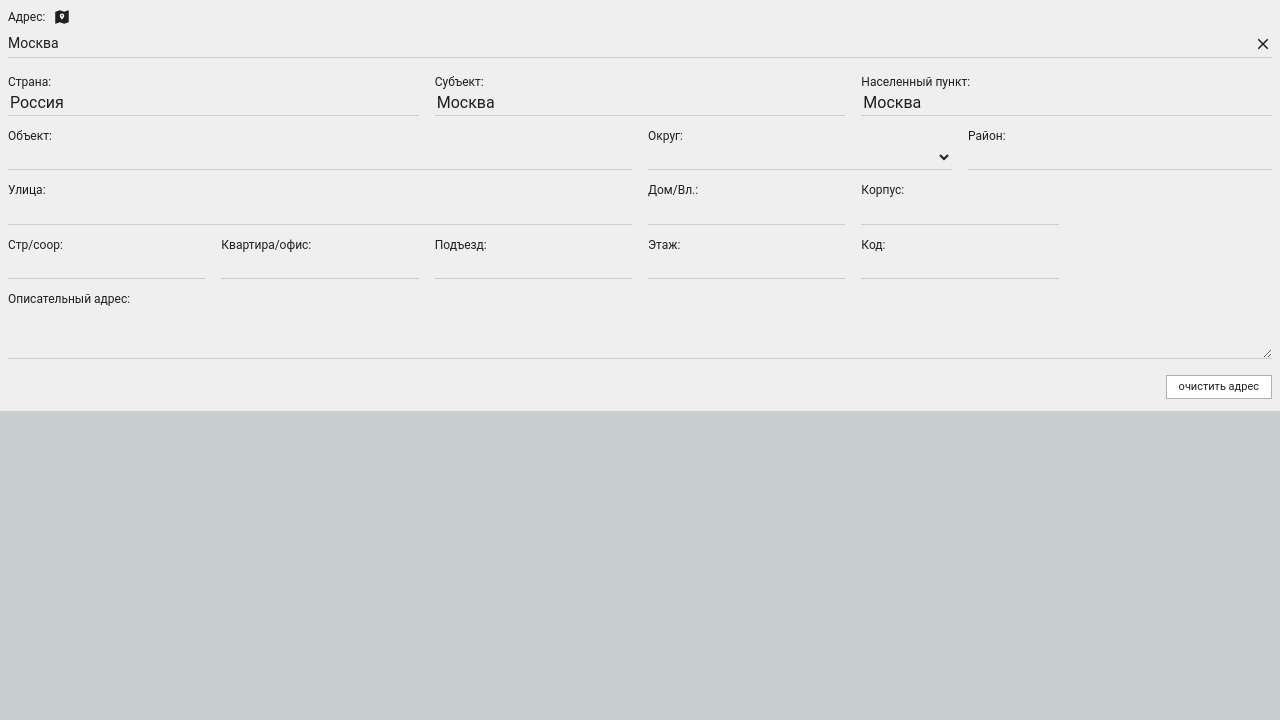
Scenario: Operator112AddressField › кнопка карты открывает окно «С112 — карта»; выбор точки пишет lat/lon в адрес
Click the button named "Указать на карте" at (62, 17), box x1=53 y1=8 x2=71 y2=26
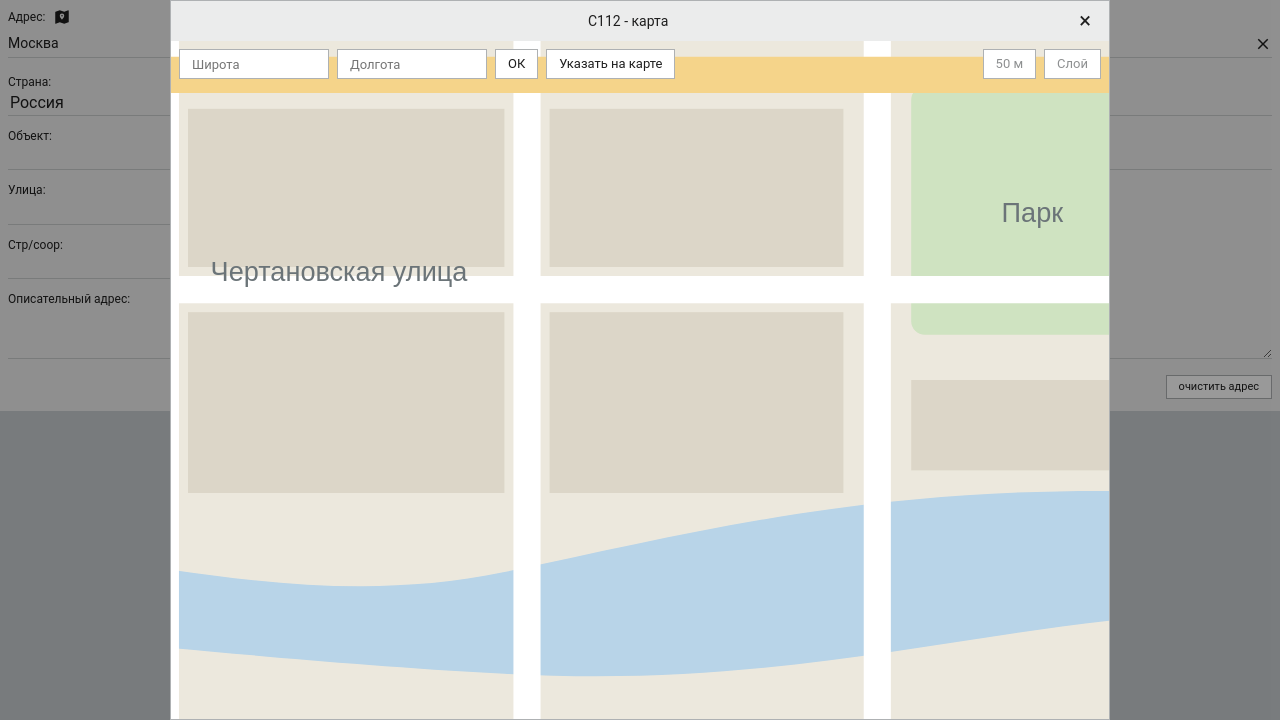
Click the button "Указать на карте" at (611, 64), box x1=546 y1=49 x2=675 y2=79
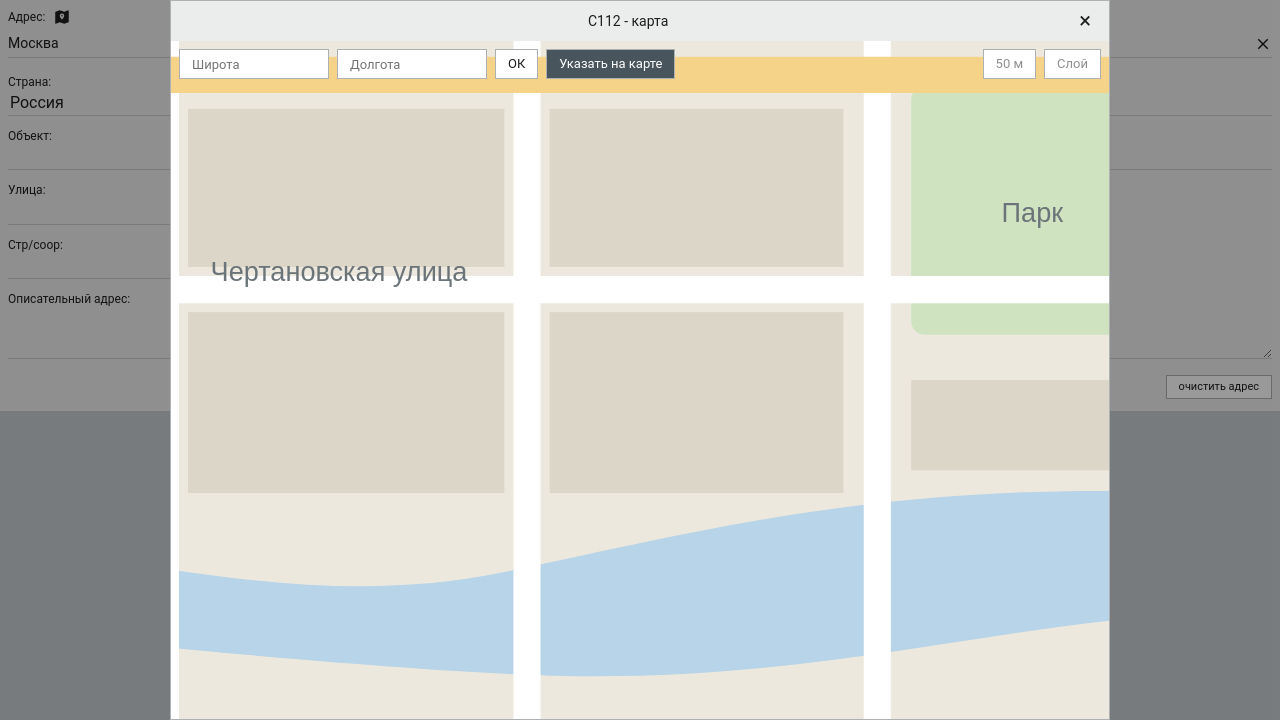
Click the element with test id "map-surface" at (640, 380), box x1=171 y1=41 x2=1109 y2=719
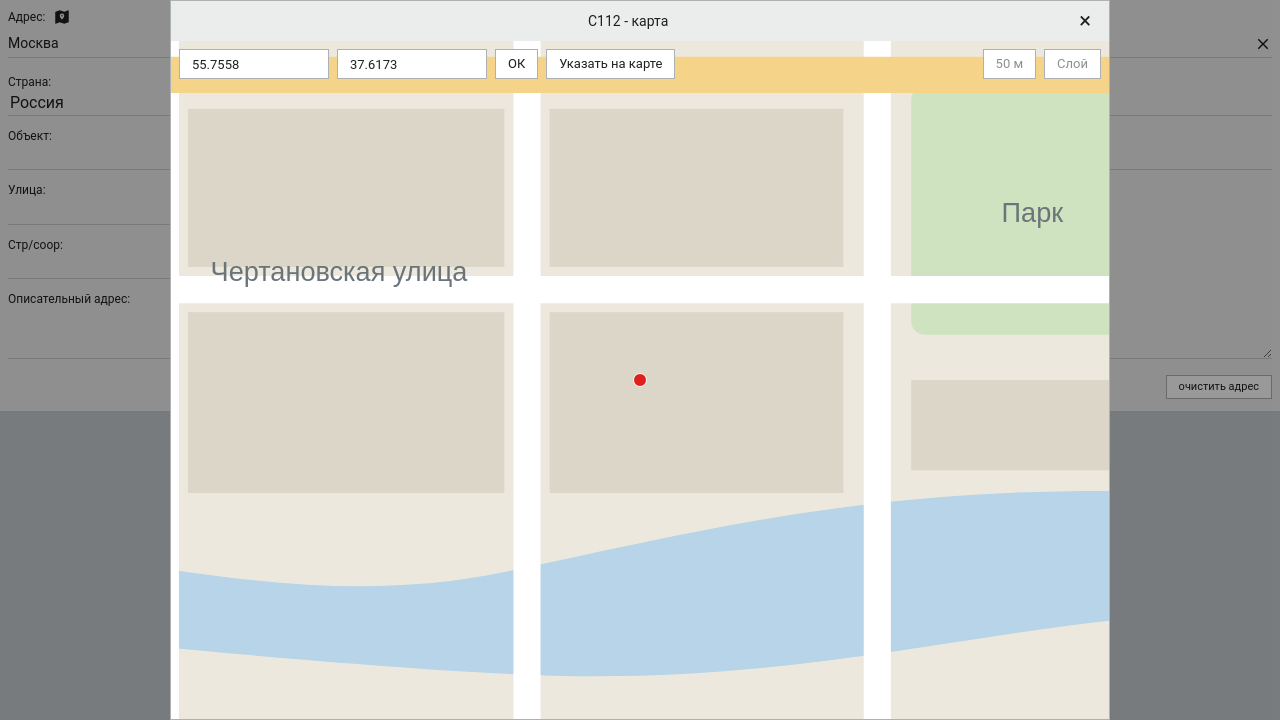
Click the button "ОК" at (517, 64), box x1=495 y1=49 x2=538 y2=79
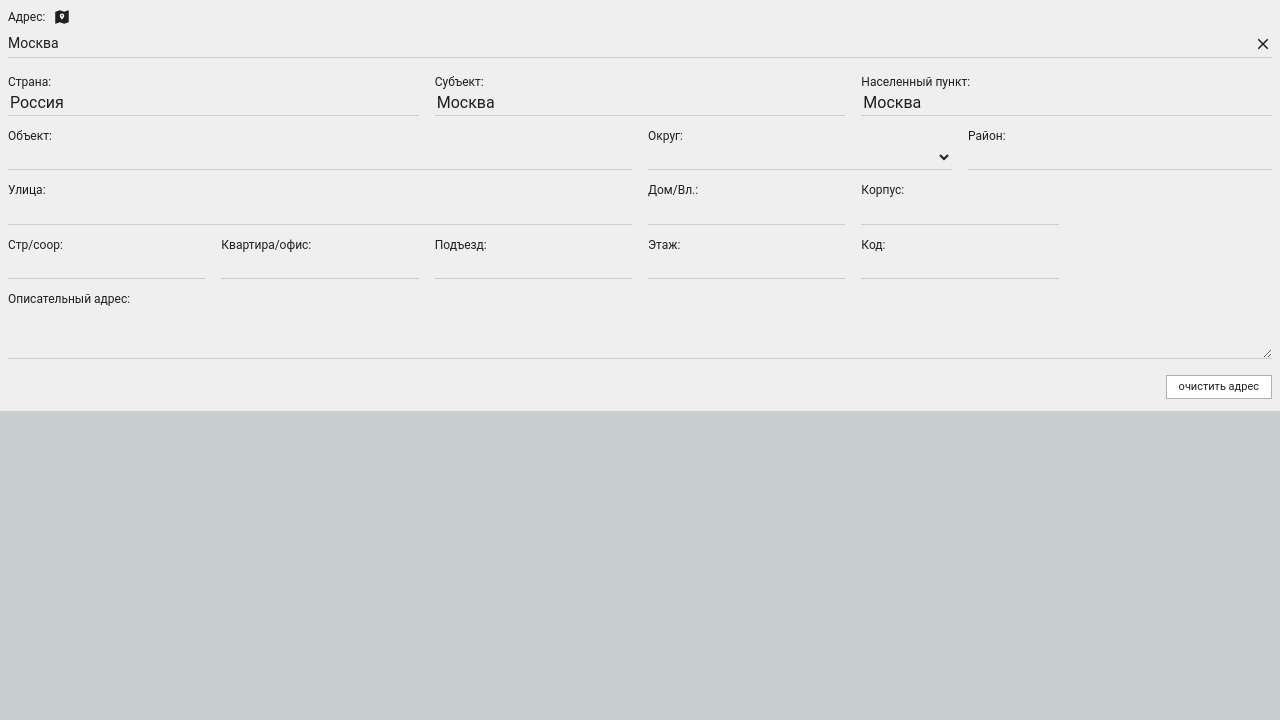
Check: the dialog is gone
